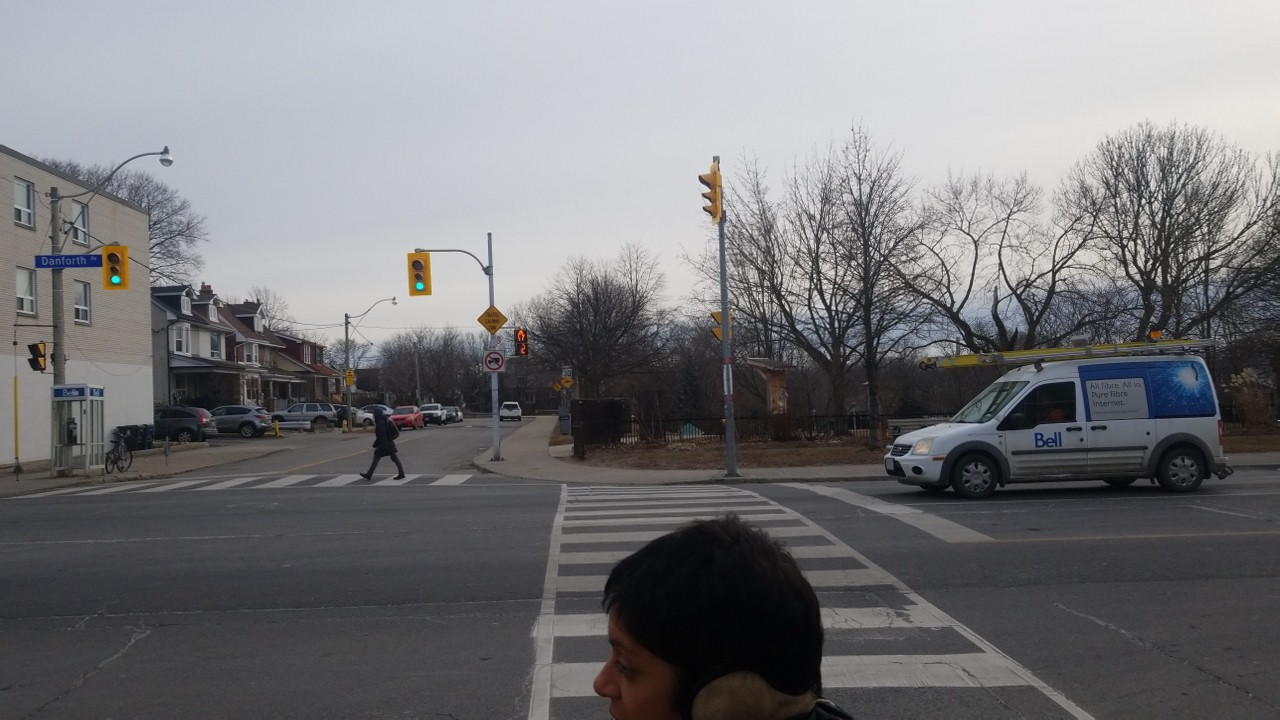light: (512, 327, 529, 356)
